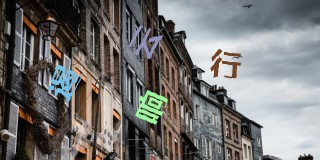云: (128, 24, 164, 59)
响: (134, 89, 168, 125)
行: (208, 48, 243, 80)
遏: (46, 64, 83, 101)
